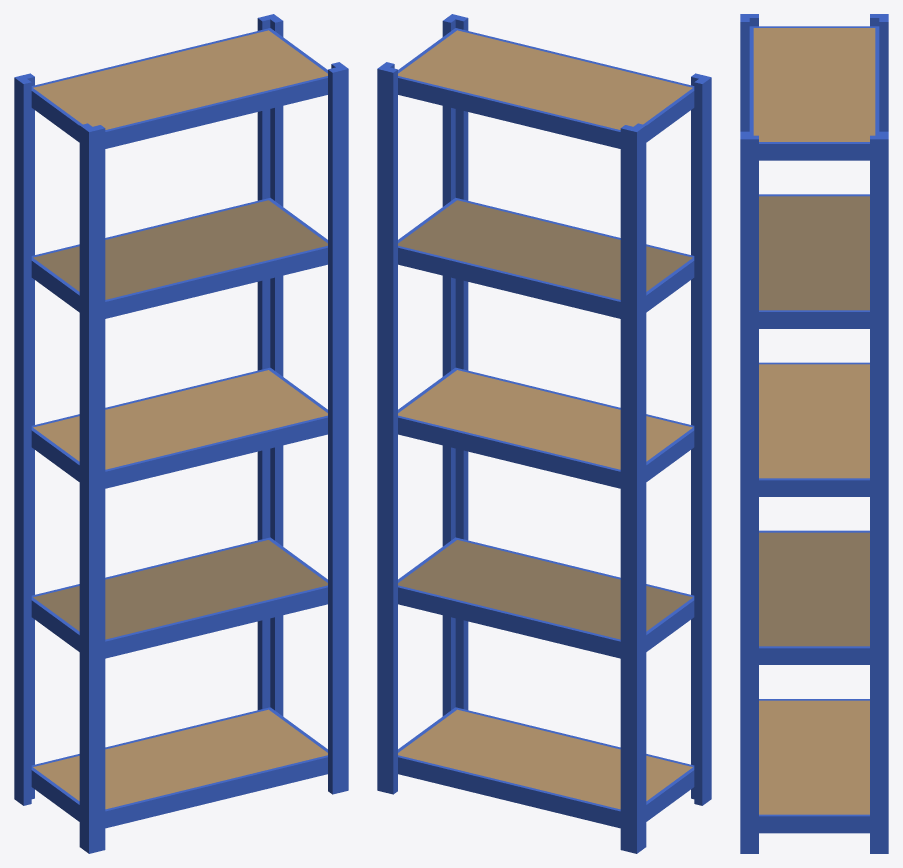
File: Stand3.fbx
The picture shows the model from 3 angles, left to right: view 1: azimuth 30°, elevation 25°; view 2: azimuth 150°, elevation 25°; view 3: azimuth 270°, elevation 25°; orthographic projection.
Visible parts, largest first — view 1: isl_Shelf_06_Def.obj; view 2: isl_Shelf_06_Def.obj; view 3: isl_Shelf_06_Def.obj.
Boxes of the visible parts, x1,y1,x2,y2 form: isl_Shelf_06_Def.obj: [14, 14, 348, 853]; isl_Shelf_06_Def.obj: [377, 14, 711, 853]; isl_Shelf_06_Def.obj: [740, 14, 888, 853].
Bounding box in the file's own units: 80 × 213 × 40.
